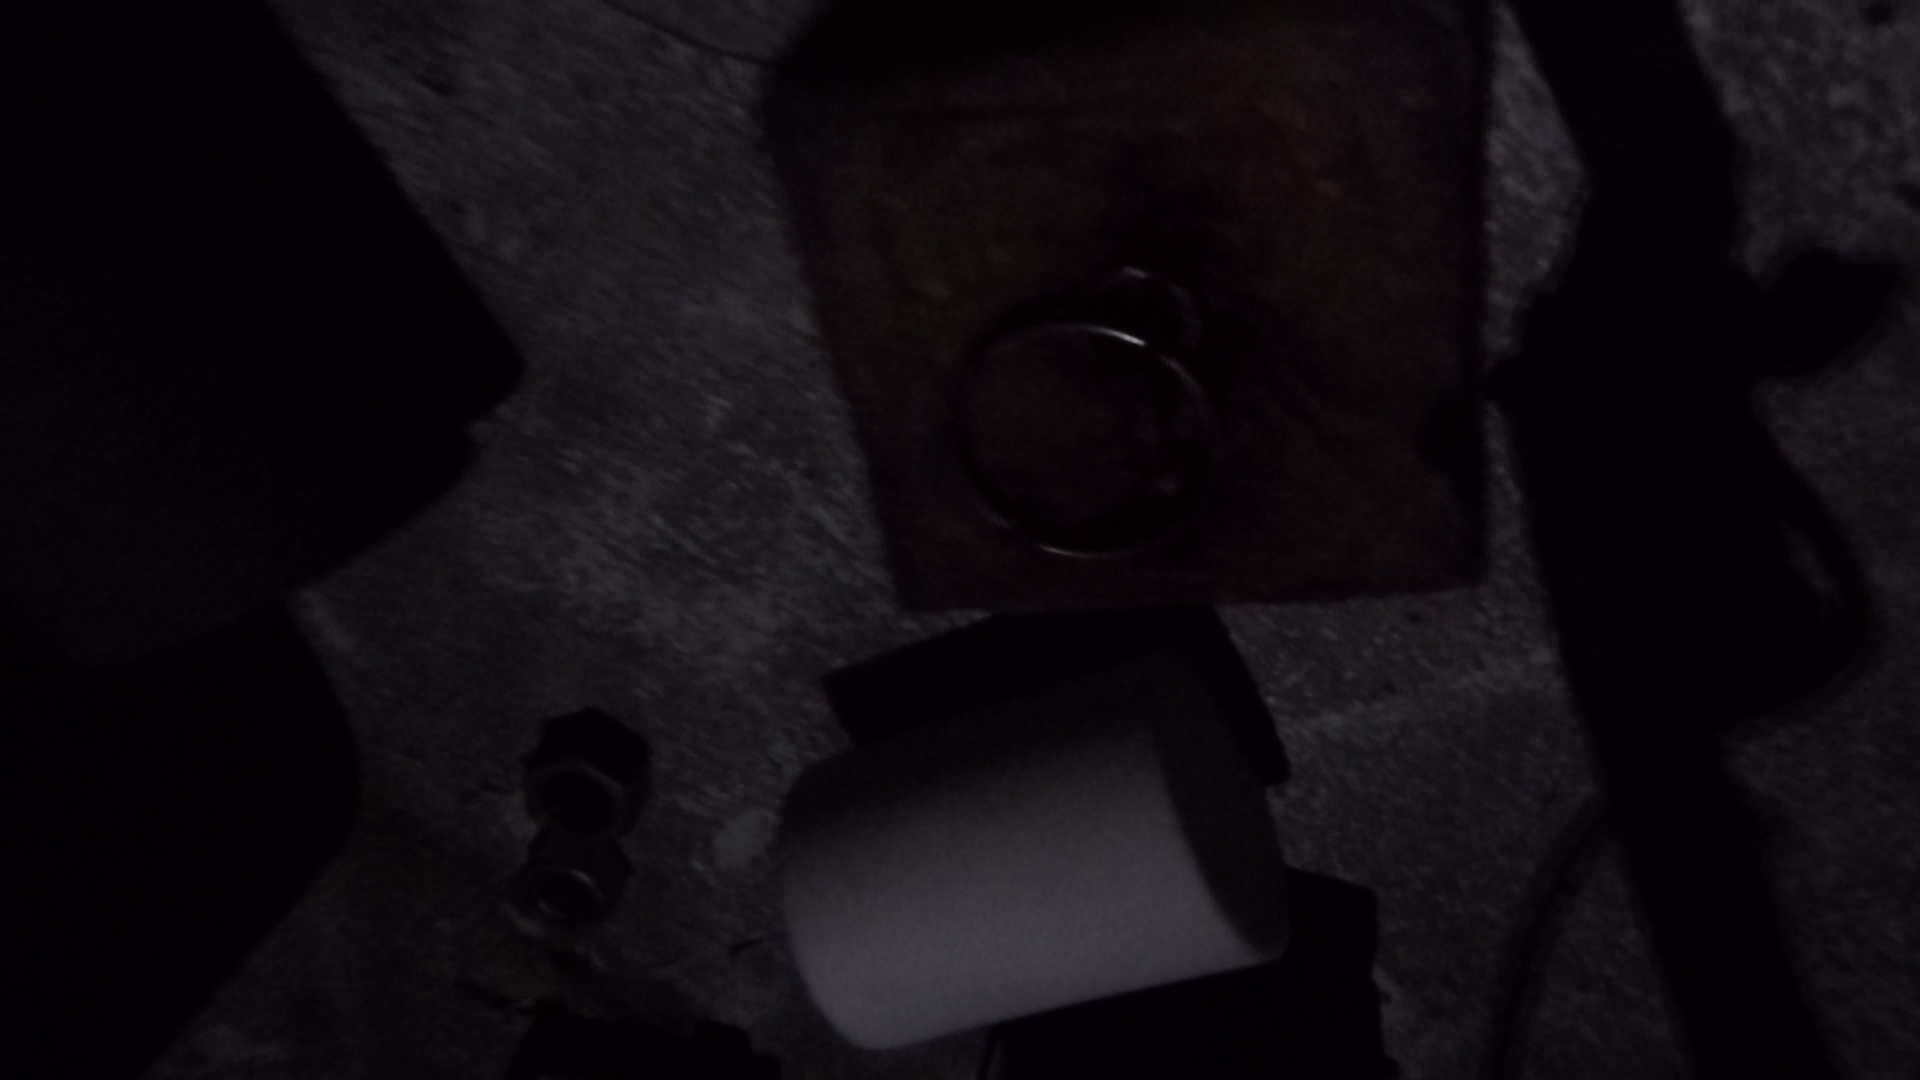led_block: (760, 1, 1490, 612)
nut: (524, 735, 646, 845), (516, 835, 624, 927)
pipe: (8, 1, 480, 662), (781, 655, 1298, 1054)
